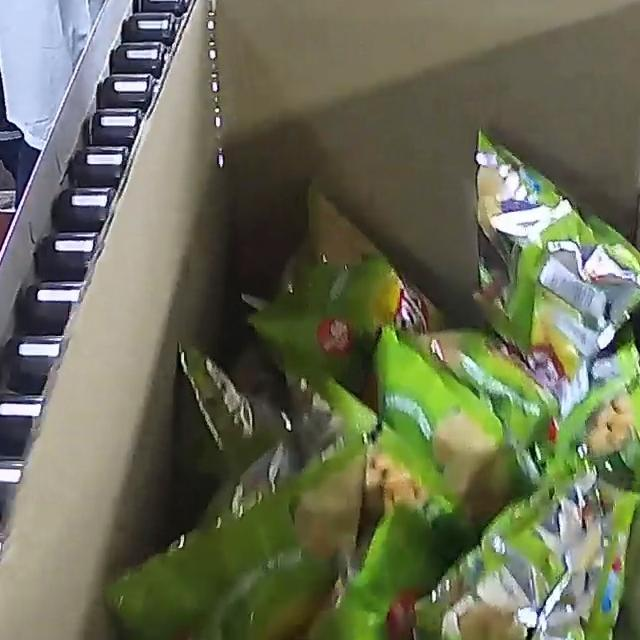yogurt: (102, 126, 640, 640)
